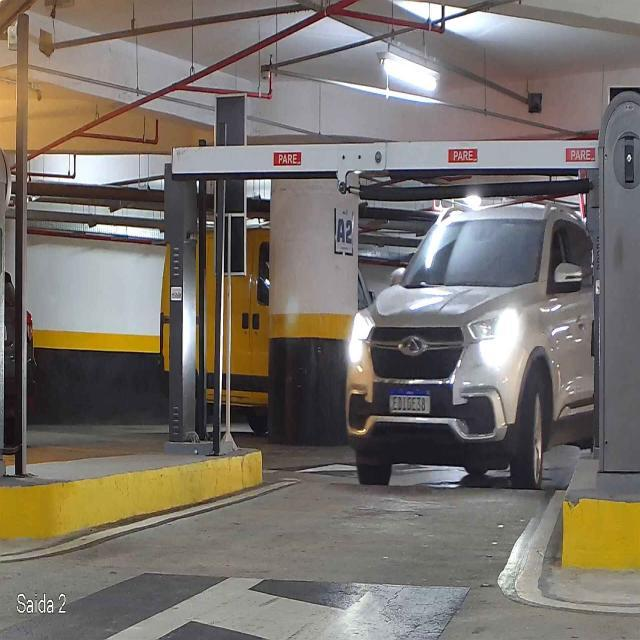mercosul_plate: (386, 386, 433, 416)
